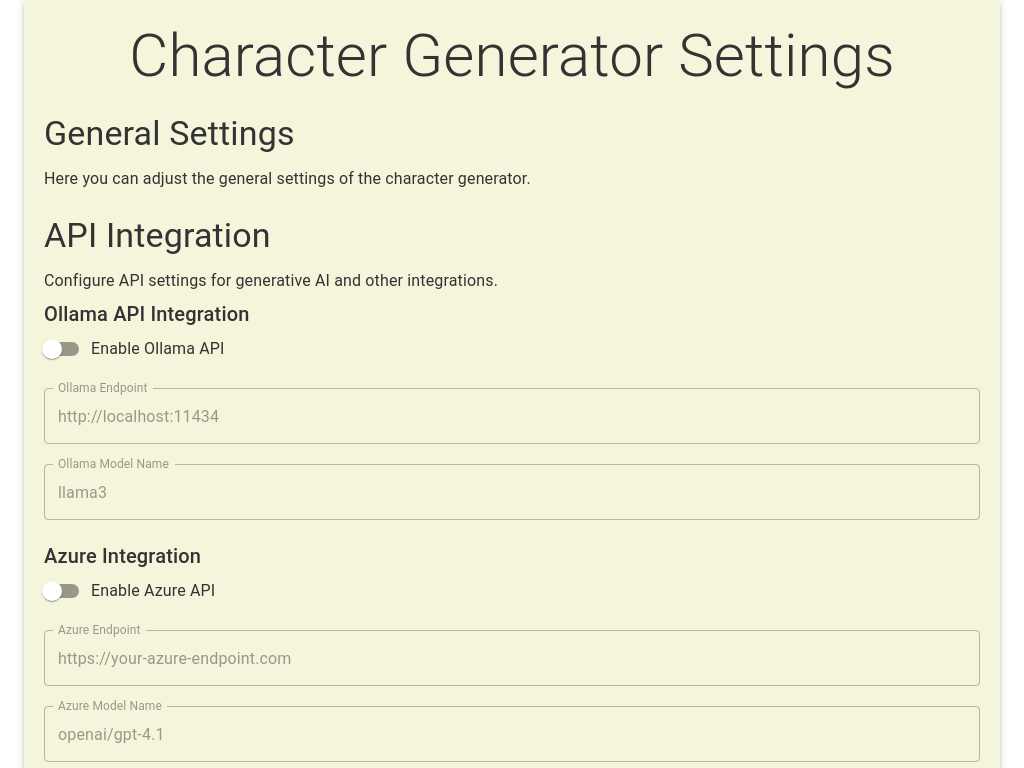
Settings › enables endpoint and model fields when Ollama API is toggled on
This screenshot has width=1024, height=768.
Click the checkbox labelled "Enable Ollama API" at (133, 349), box [42,339,225,359]
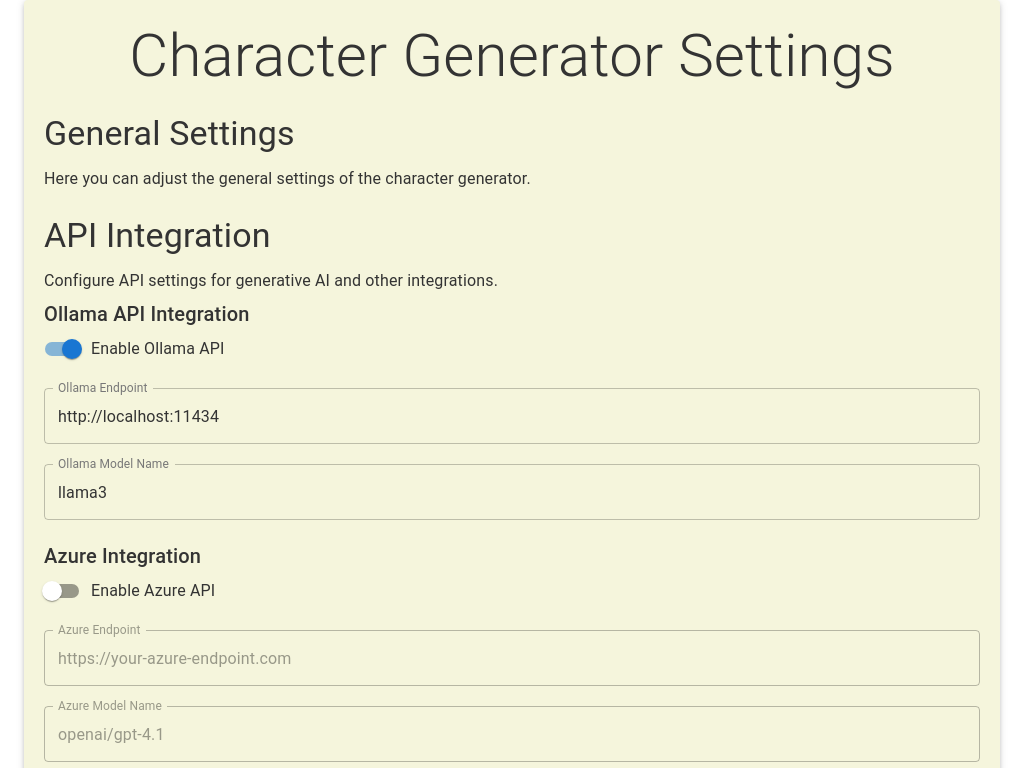
Now the field labelled "Ollama Endpoint" is enabled, box [44,388,980,444]
Now the field labelled "Ollama Model Name" is enabled, box [44,464,980,520]
